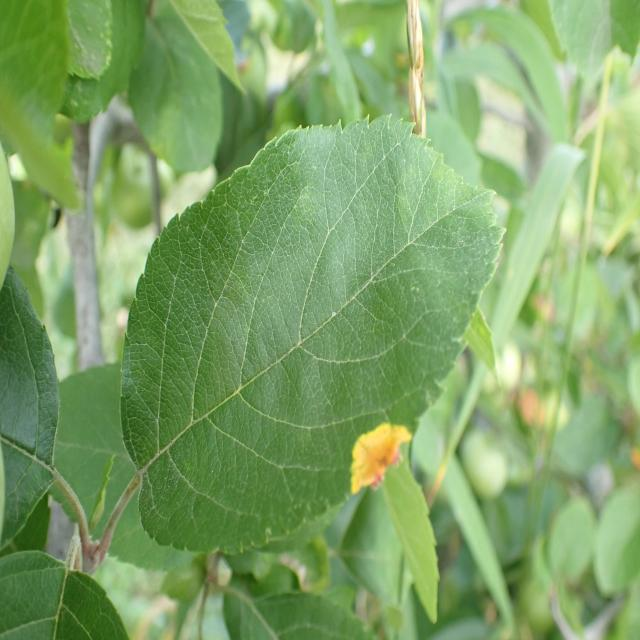Rust: (347, 410, 420, 504)
